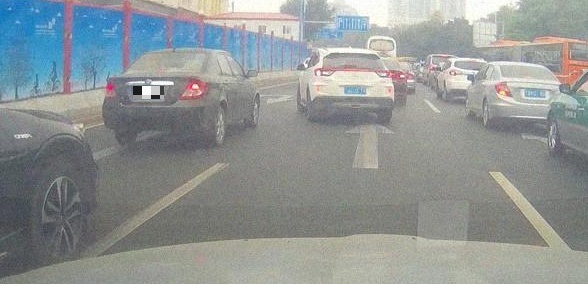L_light: (104, 81, 119, 98), (315, 68, 335, 76)
R_light: (181, 79, 208, 99), (375, 70, 392, 78)
T_light: (343, 68, 364, 72), (166, 53, 181, 58)
day-brake: (102, 49, 210, 146), (314, 47, 393, 124)
plate_1: (133, 86, 164, 99)
